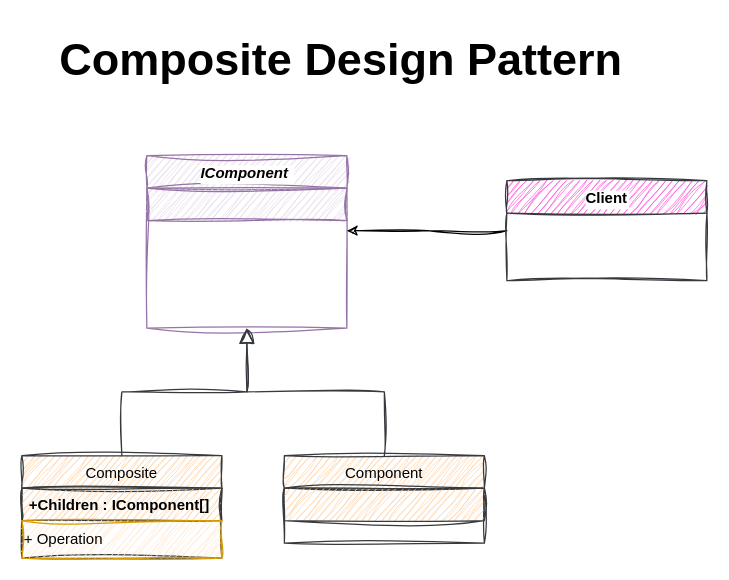
Image size: 729x580. Some labels were removed from this diagram. Here are the shapes that lost their labels. From the top down, the centre of each, then its label:
At [246,204]: "+Operation()".
At [383,504]: "+Operation".
